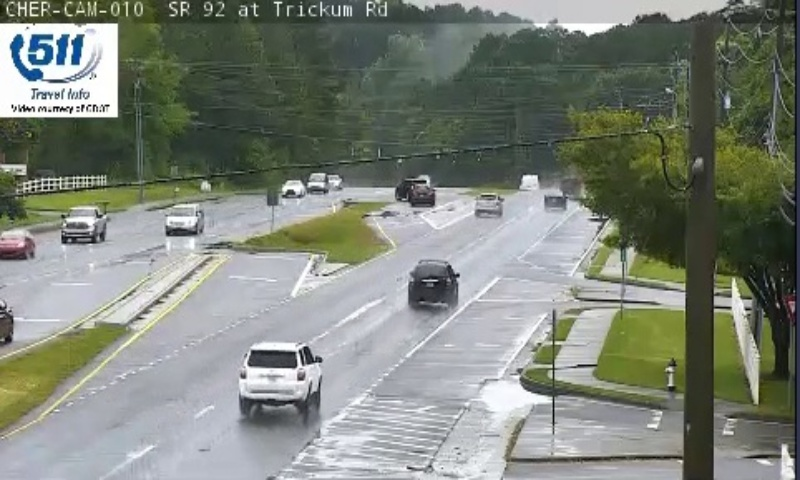car: (237, 341, 321, 406), (408, 261, 458, 301), (474, 191, 502, 214)
